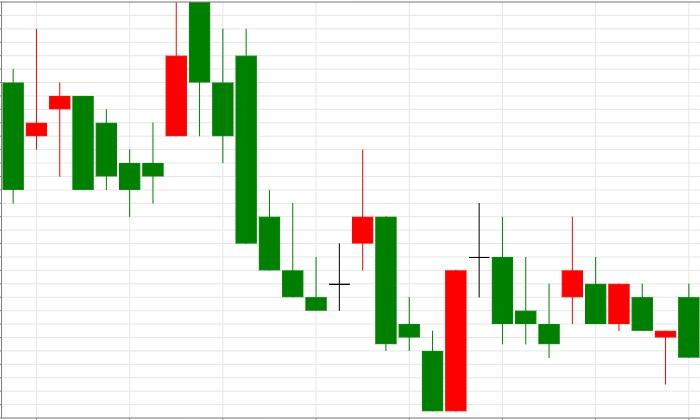bullish_engulfing_rise: (351, 150, 467, 411)
